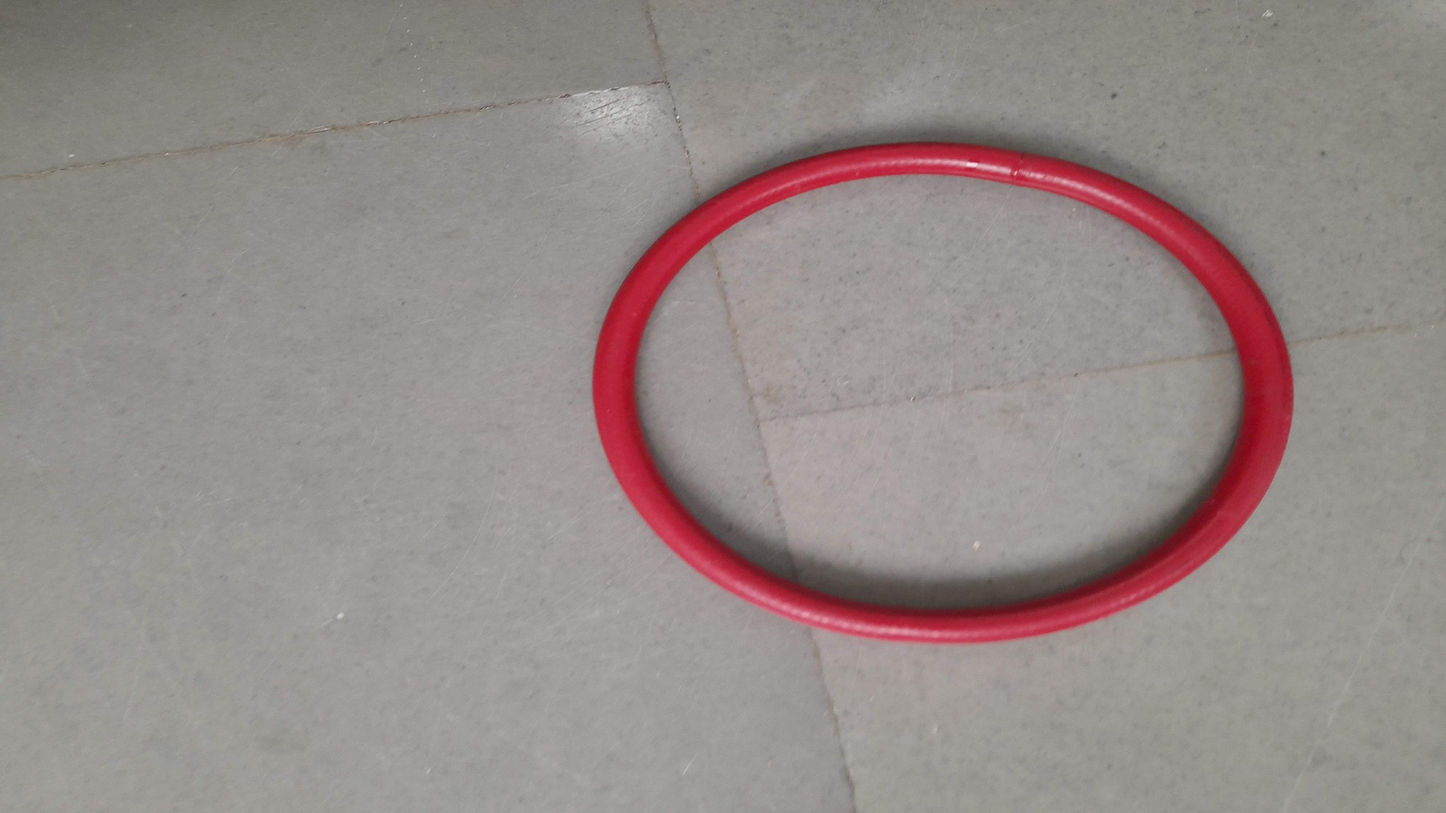Red ring: (597, 142, 1295, 647)
